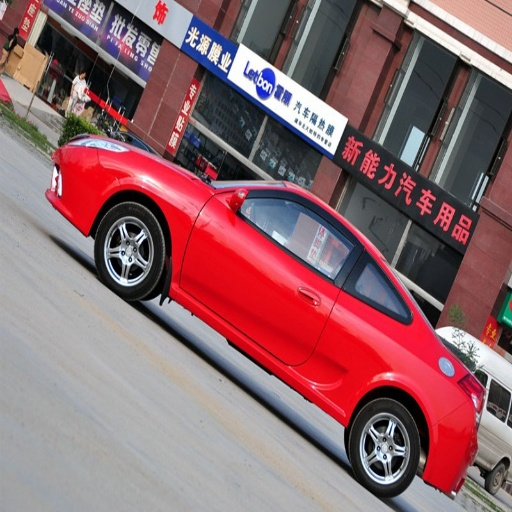trunk: (257, 267, 354, 360)
